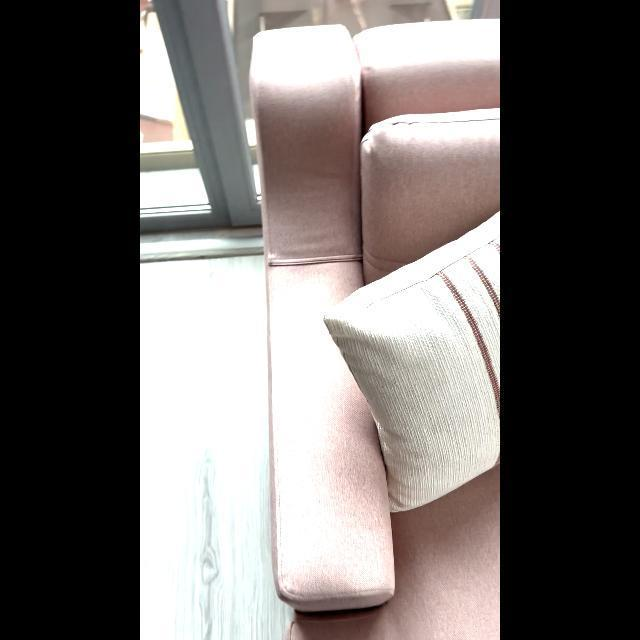throw pillow: (316, 199, 499, 516)
